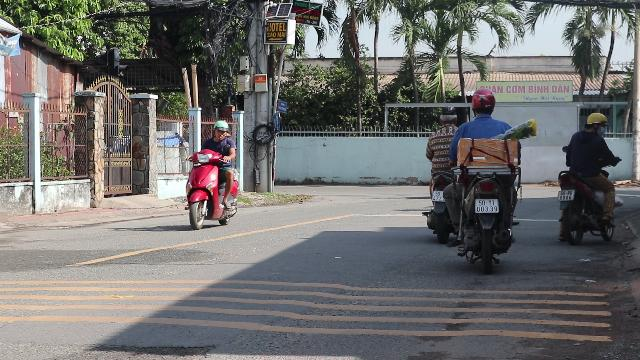helmet: (469, 89, 496, 117), (584, 112, 606, 132)
licenseplate: (474, 199, 498, 213), (212, 120, 228, 138), (558, 190, 574, 200)
motorcyclist: (445, 88, 523, 272), (554, 112, 620, 244), (182, 118, 242, 229)
